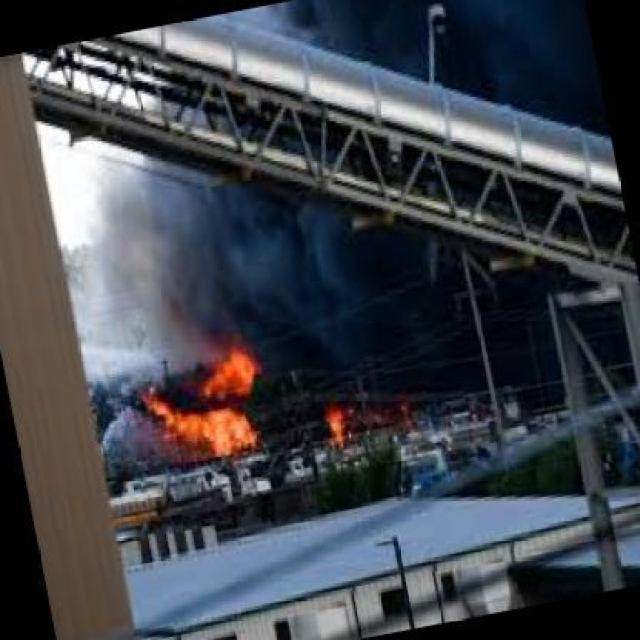Fire: (138, 342, 258, 466), (315, 406, 359, 456)
Smoke: (82, 161, 482, 340), (290, 2, 580, 130)
